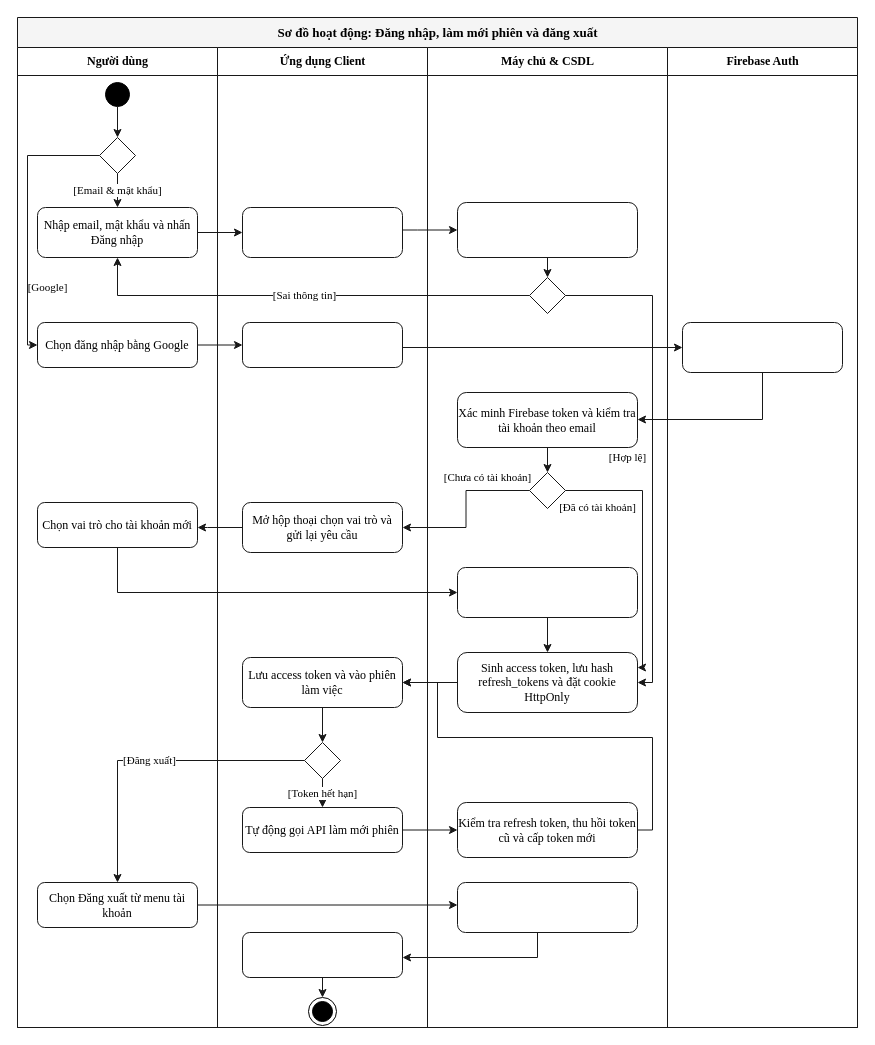
Image size: 875x1045. Some labels were removed from this diagram. The shapes that lost their labels are listed below. From the top down, each one's centre as x and y in pixels, then its label:
pixel 322 232: Gửi yêu cầu đăng nhập đến máy chủ
pixel 547 230: Tìm tài khoản theo email, kiểm tra trạng thái và mật khẩu băm
pixel 322 345: Mở popup xác thực Firebase
pixel 762 347: Xác thực Google và trả Firebase ID token
pixel 547 592: Tạo users và gán user_roles theo vai trò đã chọn
pixel 547 907: Thu hồi refresh_tokens và xóa cookie HttpOnly
pixel 322 955: Xóa trạng thái phiên và kết thúc
